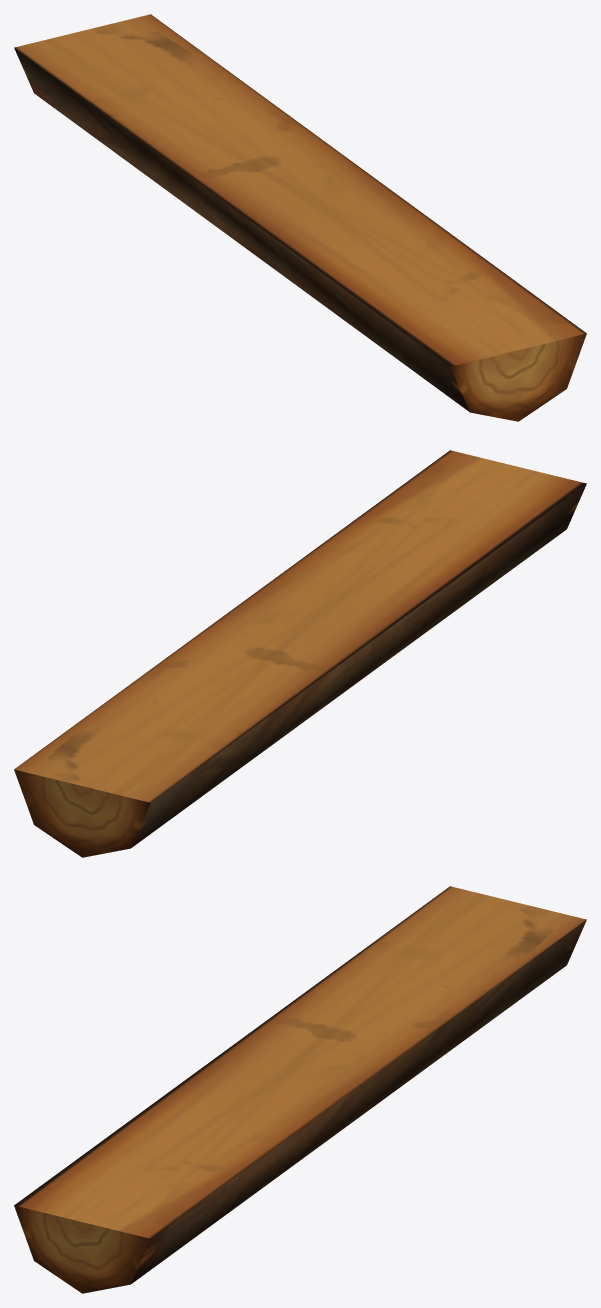
Rendered from loghalf.fbx.
The picture shows the model from 3 angles, top to bottom: view 1: azimuth 30°, elevation 25°; view 2: azimuth 150°, elevation 25°; view 3: azimuth 330°, elevation 25°; orthographic projection.
Visible parts, largest first — view 1: loghalf; view 2: loghalf; view 3: loghalf.
Boxes of the visible parts, x1,y1,x2,y2 form: loghalf: (14, 14, 586, 421); loghalf: (14, 450, 586, 857); loghalf: (14, 886, 586, 1293).
Bounding box in the file's own units: 200 × 100 × 1104.
